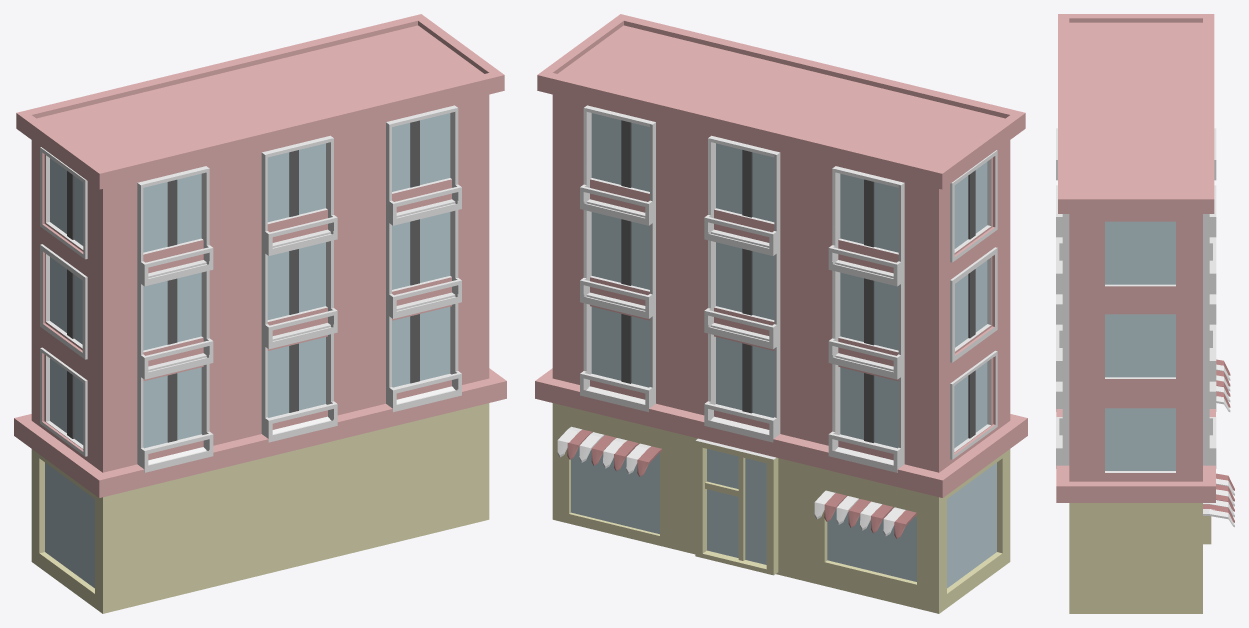
The model's file is building_house_2.glb.
The picture shows the model from 3 angles, left to right: view 1: azimuth 30°, elevation 25°; view 2: azimuth 150°, elevation 25°; view 3: azimuth 270°, elevation 25°; orthographic projection. The views are drawn at different scales.
Visible parts, largest first — view 1: Building; view 2: Building; view 3: Building.
Part boxes in pixels (x1,y1,x2,y2): Building: (14,14,506,613); Building: (535,14,1027,613); Building: (1056,14,1234,613).
Size of the model in its own units: 61.17 by 64.06 by 24.8.
